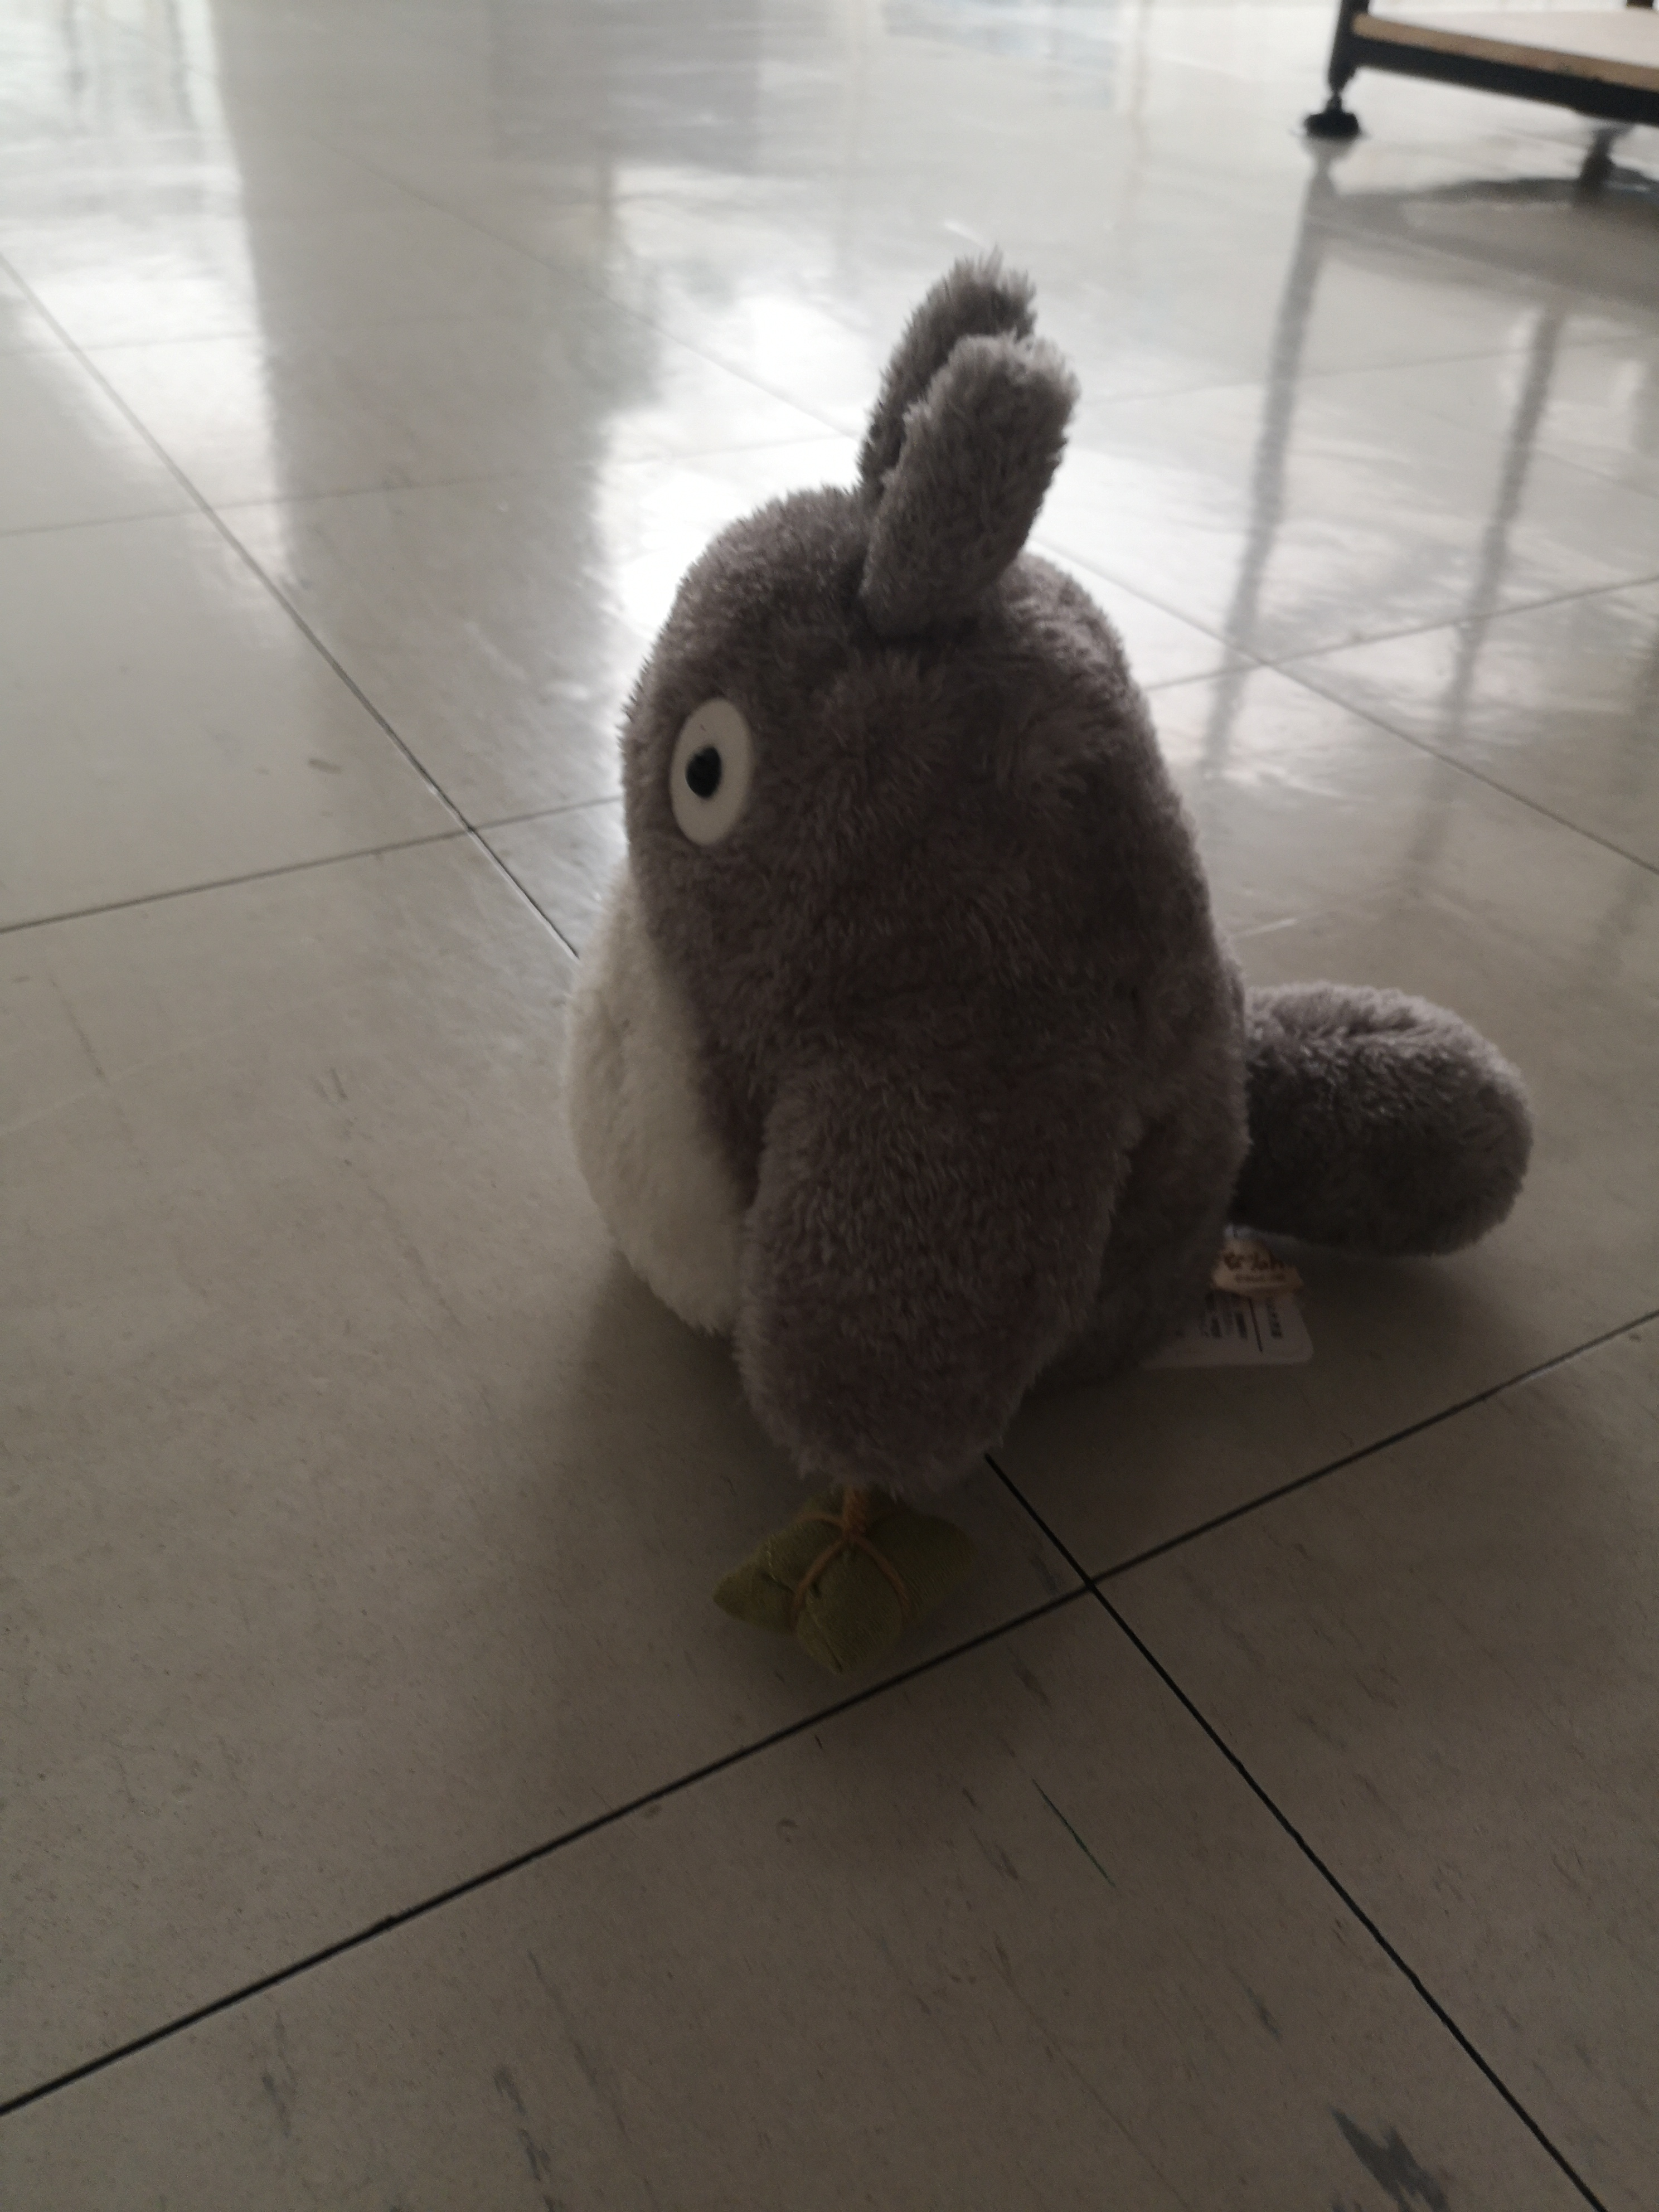totoro: (561, 242, 1554, 1674)
